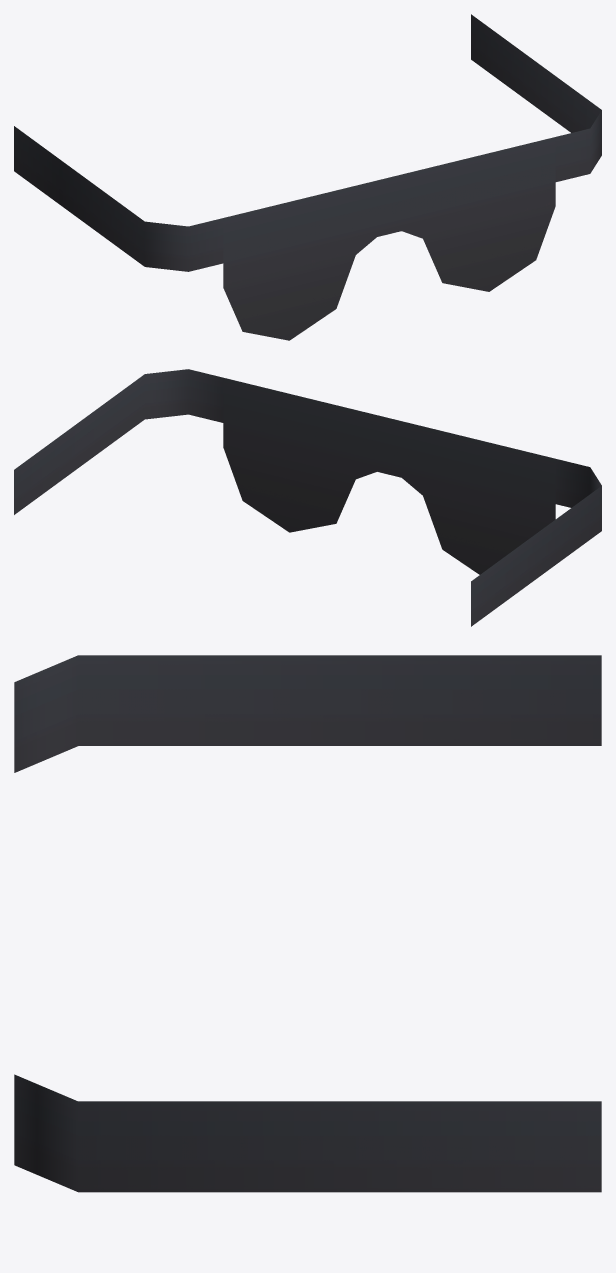
The model's file is aid-sunglasses.glb.
3 views of the same model, one above another, from view 1: azimuth 30°, elevation 25°; view 2: azimuth 150°, elevation 25°; view 3: azimuth 270°, elevation 25° (orthographic). The views are drawn at different scales.
Parts seen in each view (by area): view 1: aid-sunglasses; view 2: aid-sunglasses; view 3: aid-sunglasses.
Part boxes in pixels (x1,y1,x2,y2): aid-sunglasses: (14, 14, 601, 340); aid-sunglasses: (14, 369, 601, 626); aid-sunglasses: (14, 655, 601, 1192).
Size of the model in its own units: 0.33 by 0.0958 by 0.1836.
1 material, 1 textured.
